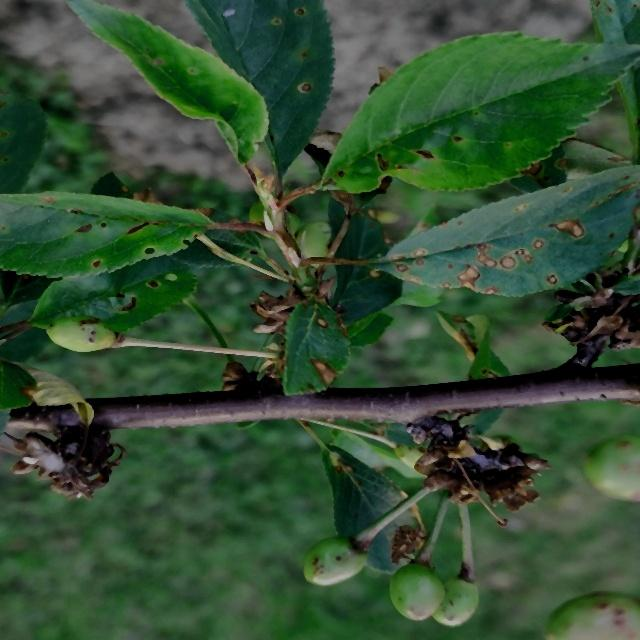leaf_spot: (369, 207, 640, 302), (258, 288, 358, 445)
shot_hole: (313, 102, 516, 214), (90, 220, 227, 283)
